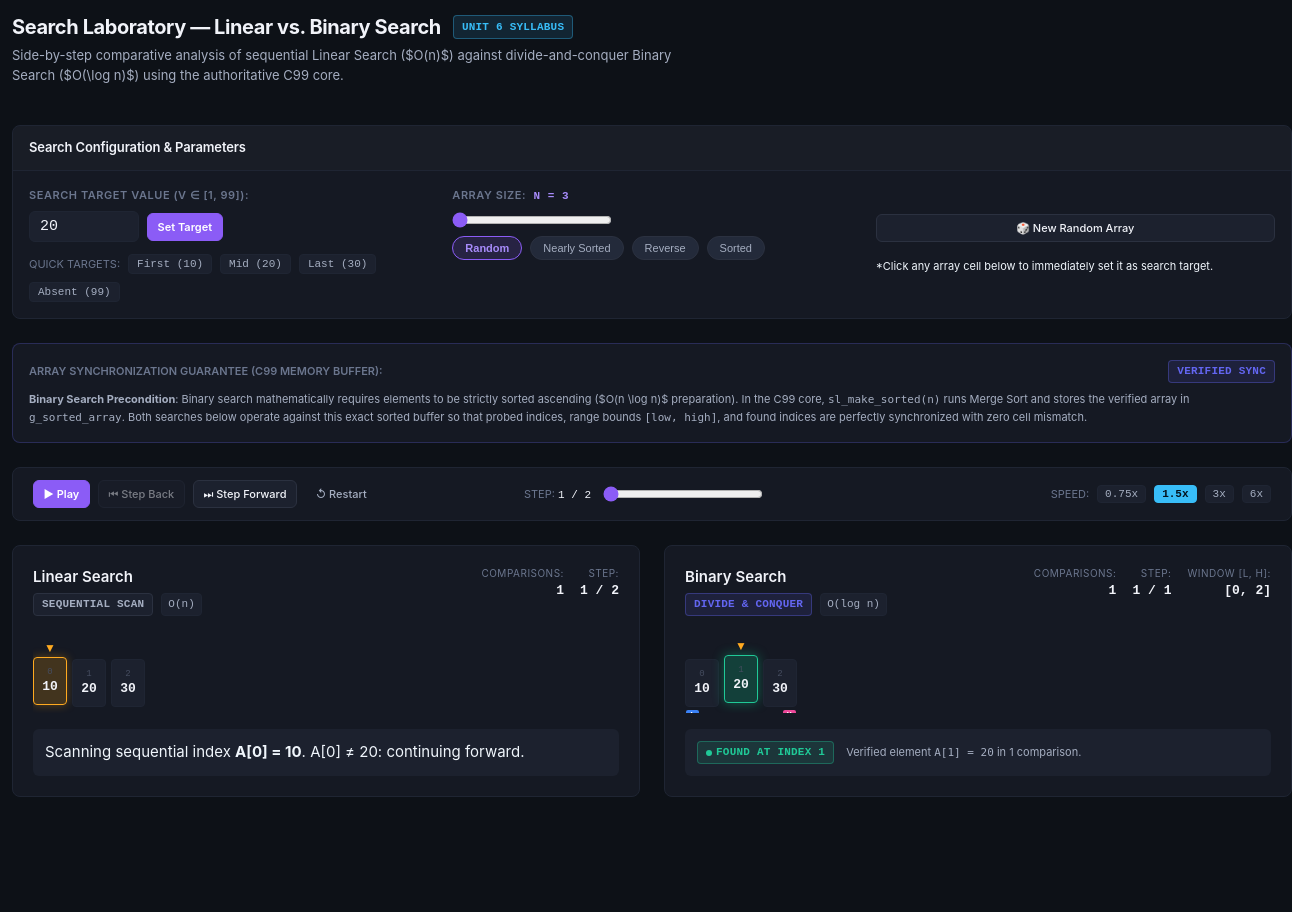
Search Lab Suite — C99 Search Invariants & Interactive Workbench › SearchLab Component Interactive UI › rejects invalid target values with user alert
This screenshot has width=1292, height=912.
Replace the text in the number field named "target search value" with "150". click: (84, 226)
box: x1=29 y1=211 x2=139 y2=242
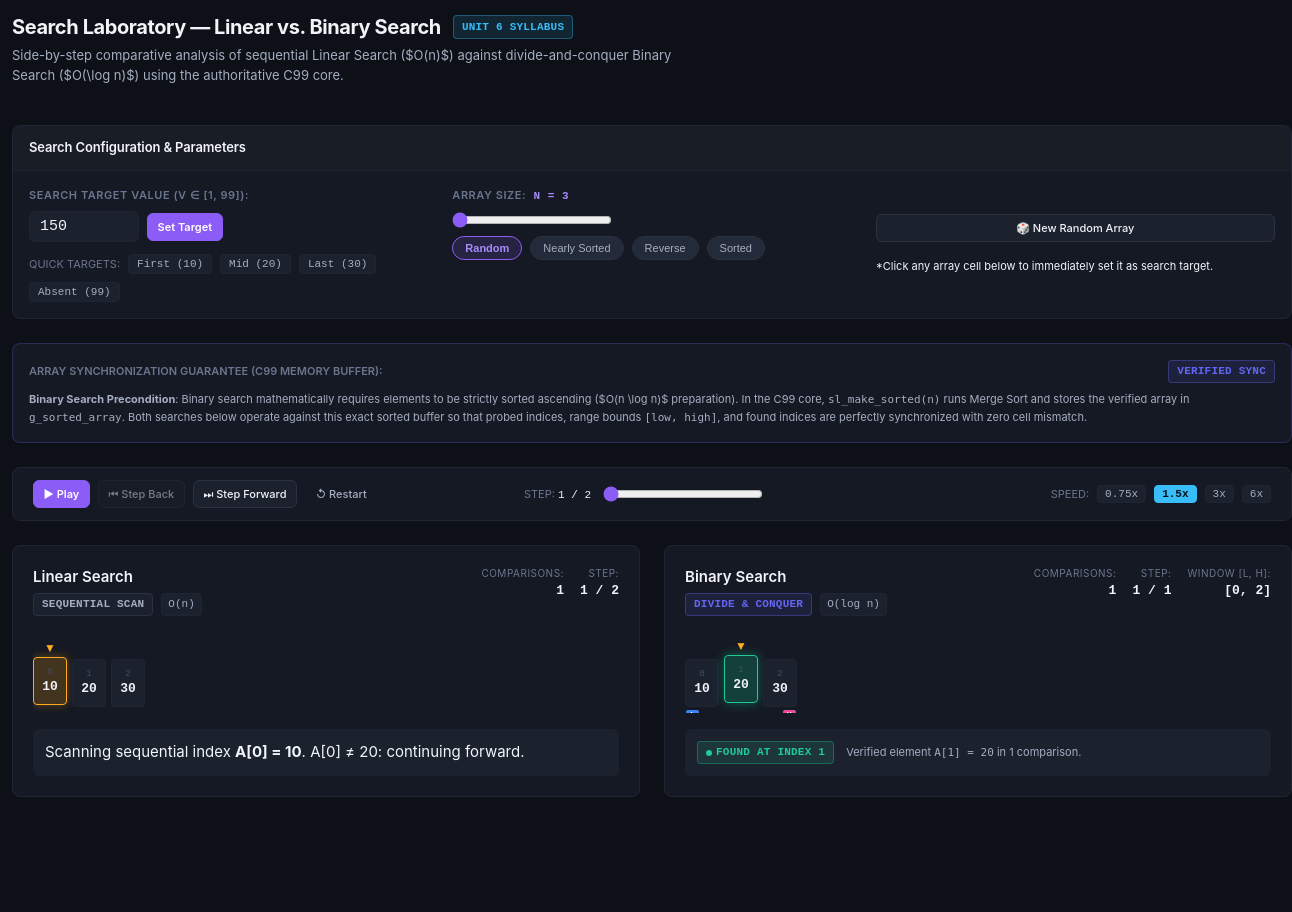
Click the button "Set Target". click: (185, 226)
box: x1=147 y1=212 x2=223 y2=240
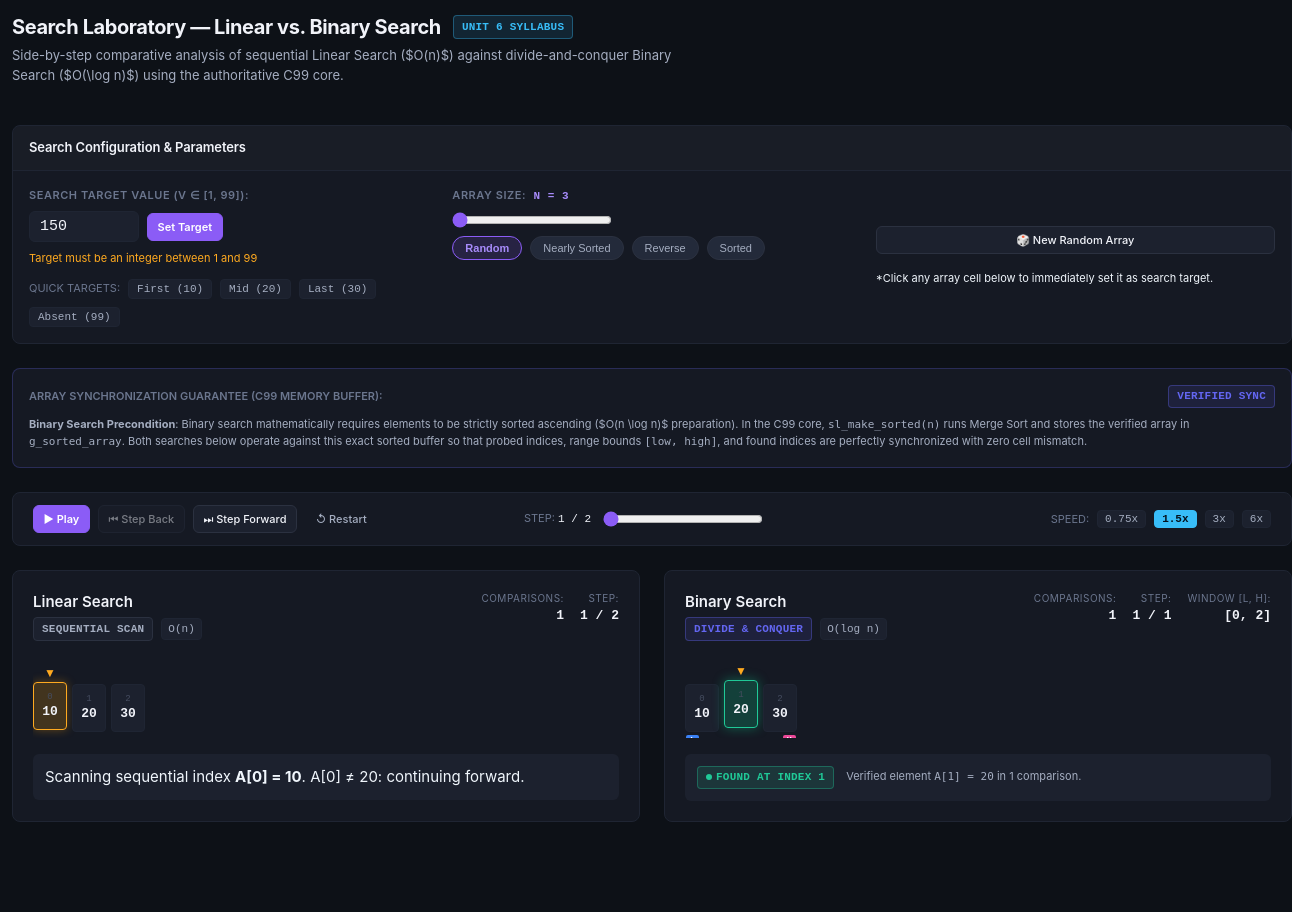
Now the message shows "must be an integer between 1 and 99", box x1=29 y1=251 x2=257 y2=265
